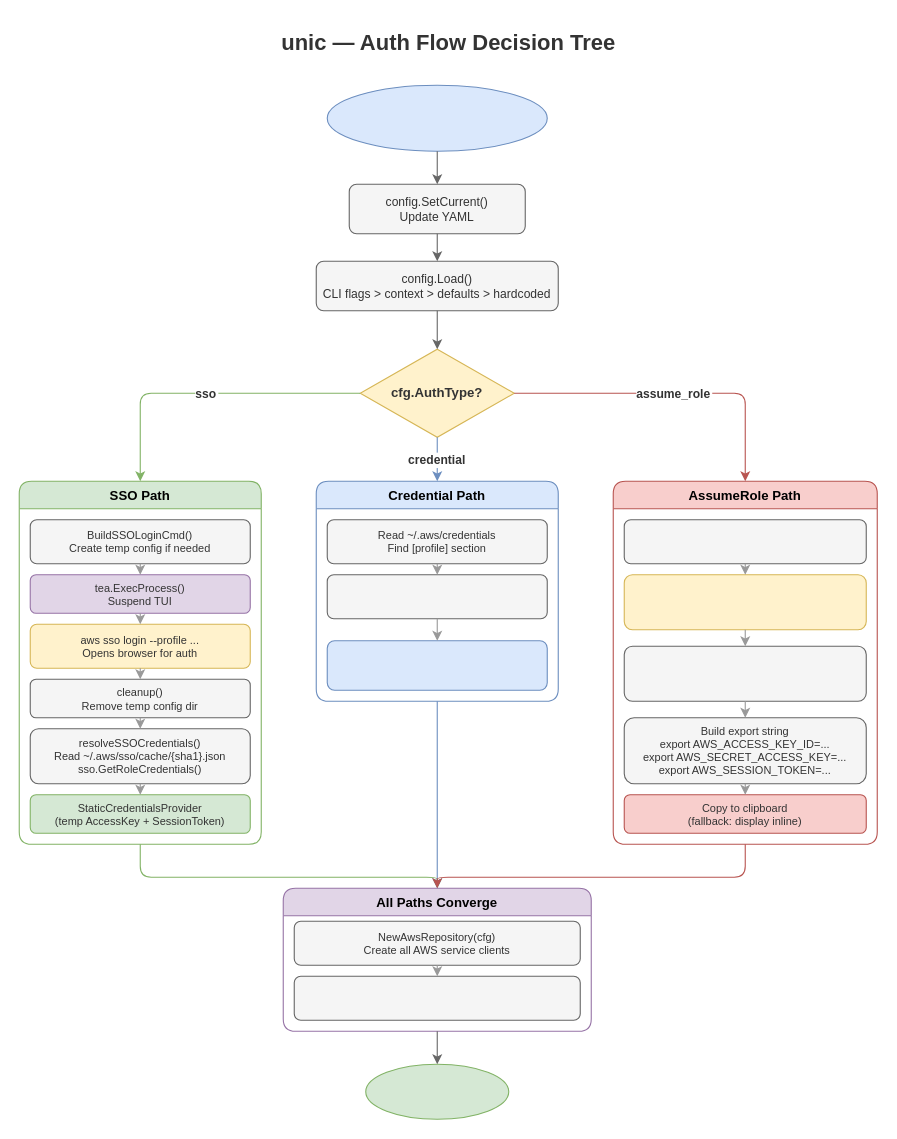
This 897x1139 diagram has some shape labels left out. Here are the shapes that lost their labels. From the top down, the centre of each, then its label:
(436,117): Context Selected (Enter on Context Picker)
(744,541): LoadBaseConfig() Load base profile credentials
(436,596): LoadBaseConfig() SharedConfigProfile(profile)
(744,602): sts.AssumeRole() RoleArn + ExternalID (optional) SessionName: "unic-session"
(436,665): AWS SDK Credential Chain (env vars, credentials file, instance role)
(744,673): Extract temp credentials AccessKeyId + SecretAccessKey + SessionToken
(436,997): GetCallerIdentity() Verify credentials work, display ARN
(437,1091): Return to Previous Screen
